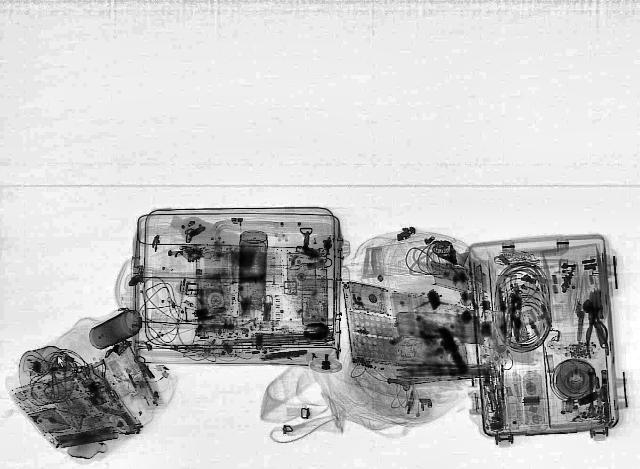Pliers: (578, 298, 612, 350), (578, 310, 610, 358)
Wrench: (586, 368, 596, 414)
